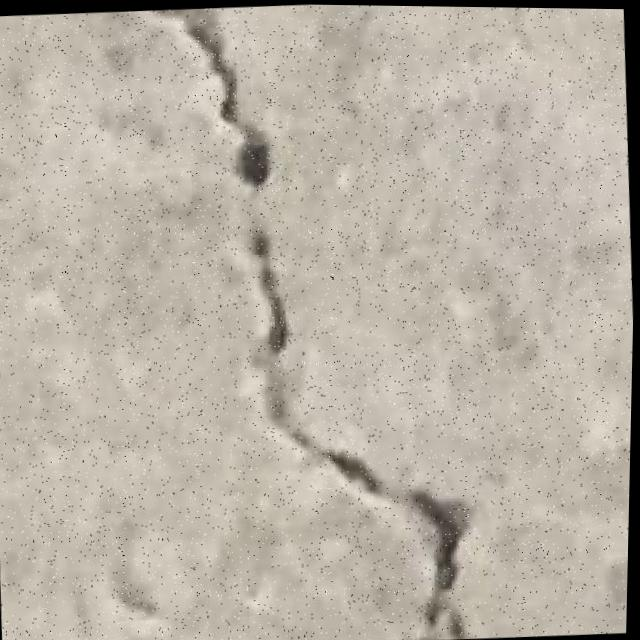Crack: (135, 2, 499, 640)
